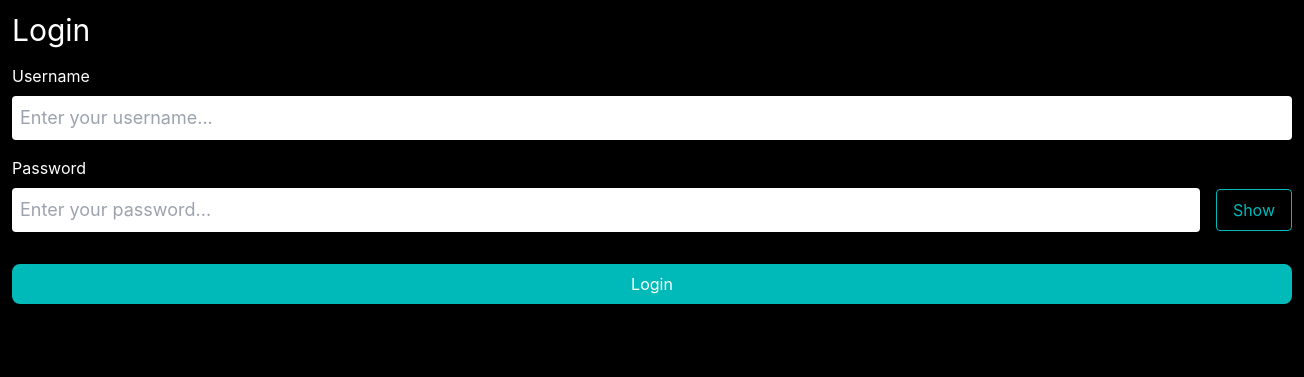
Test: Login › should show errors if no username or password provided
Click the button "Login": coordinates (652, 284) [12,264,1292,304]
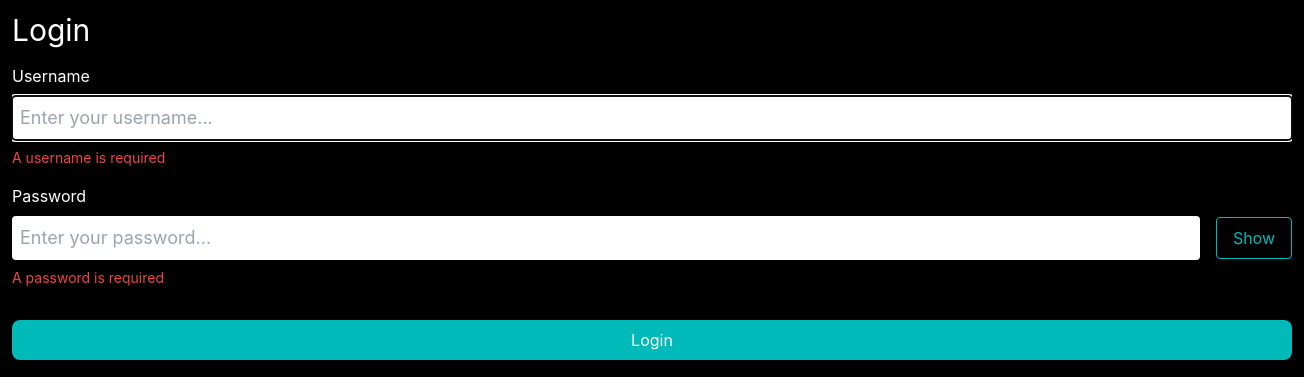
expect the text "A username is required" is shown: met, box [12,149,165,166]
expect the text "A password is required" is shown: met, box [12,269,164,286]
